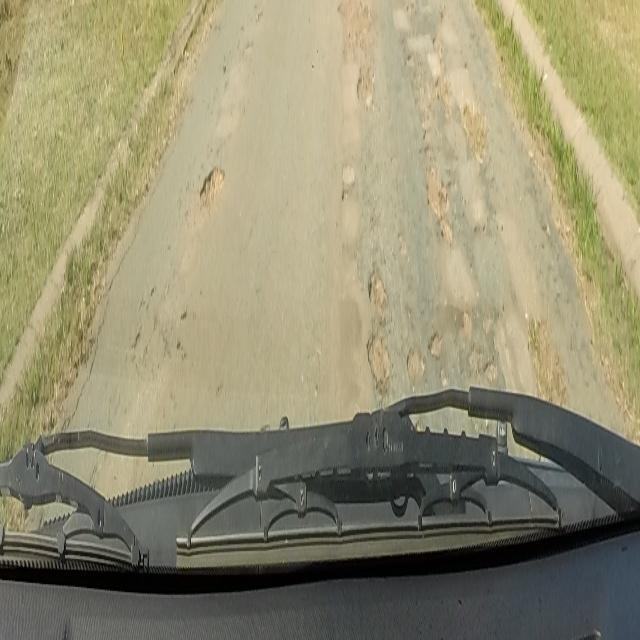pothole: (407, 313, 506, 393), (525, 313, 573, 406), (365, 266, 391, 390), (454, 101, 494, 165), (424, 168, 449, 220), (198, 157, 224, 202), (354, 64, 372, 109)
